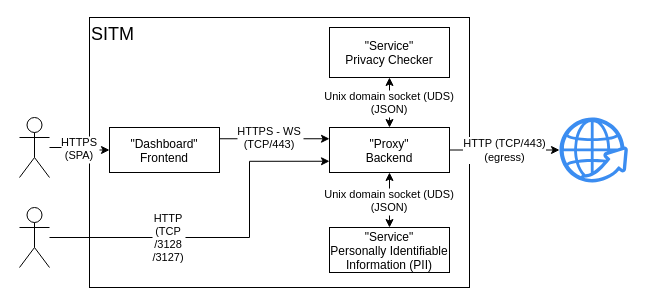
Image size: 645x306. Some labels were removed from this diagram. The centre of each missing label's shape, as x and y in pixels:
Admin: (34,147)
User: (34,237)
